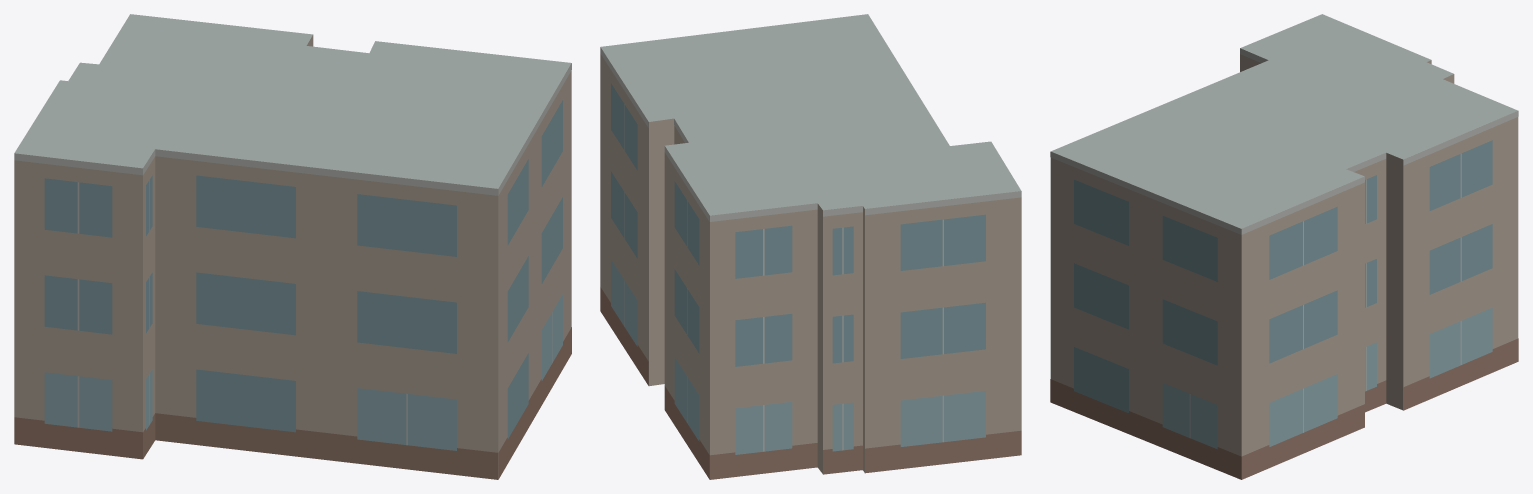
Rendered from survey-upis-32533787.glb.
The picture shows the model from 3 angles, left to right: view 1: azimuth 30°, elevation 25°; view 2: azimuth 150°, elevation 25°; view 3: azimuth 270°, elevation 25°; orthographic projection. The views are drawn at different scales.
Parts seen in each view (by area): view 1: survey-upis-32533787.tmp; view 2: survey-upis-32533787.tmp; view 3: survey-upis-32533787.tmp.
Part boxes in pixels (x1=…): survey-upis-32533787.tmp: x1=14, y1=14, x2=571, y2=479; survey-upis-32533787.tmp: x1=600, y1=14, x2=1021, y2=479; survey-upis-32533787.tmp: x1=1050, y1=14, x2=1518, y2=479.
Size of the model in its own units: 18.74 by 10.2 by 17.24.
